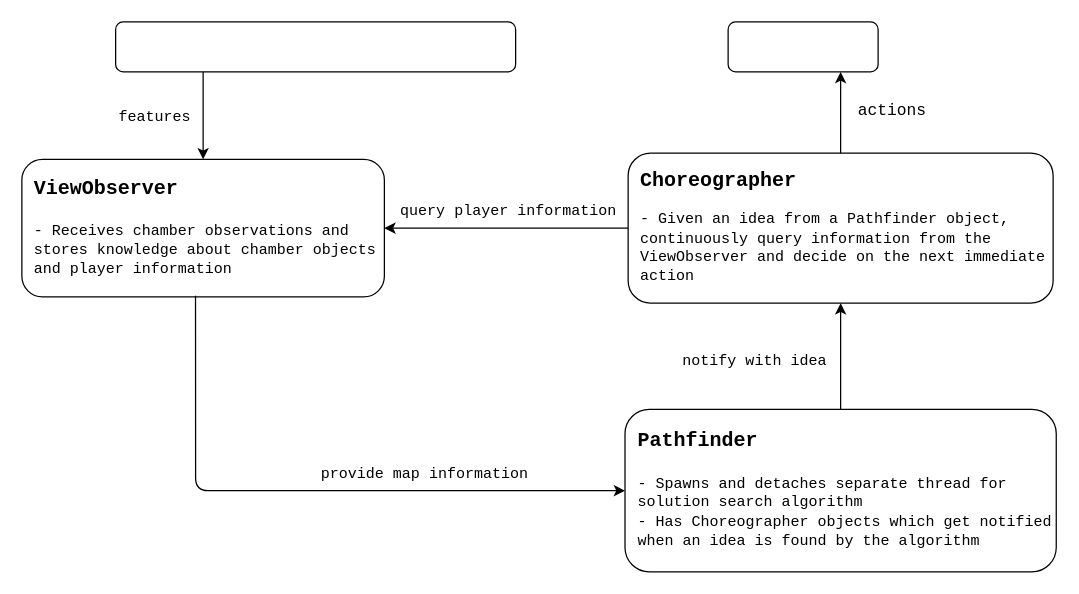
The diagram is 1079 pixels wide and 594 high, and some of its shapes have lost their labels. Each missing label, with the centre of its shape:
"Game Input" belongs at [802,46].
"Game Output + Object Detection" belongs at [315,46].
